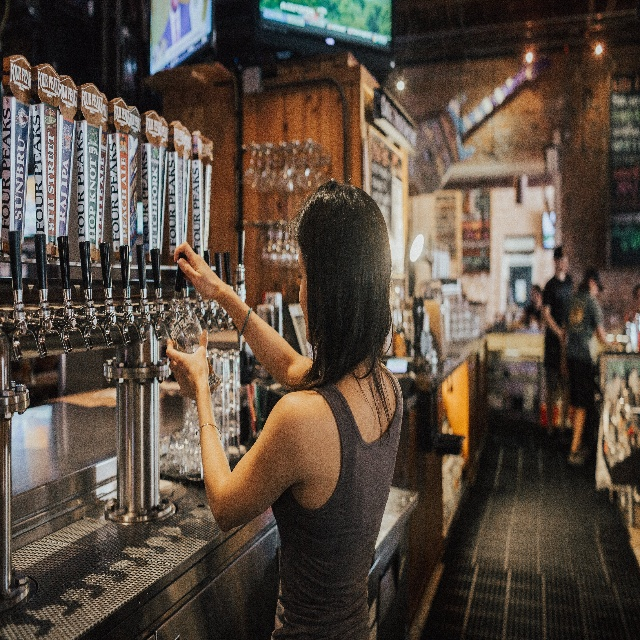Sin_guantes: (164, 325, 212, 405), (173, 238, 217, 303)
